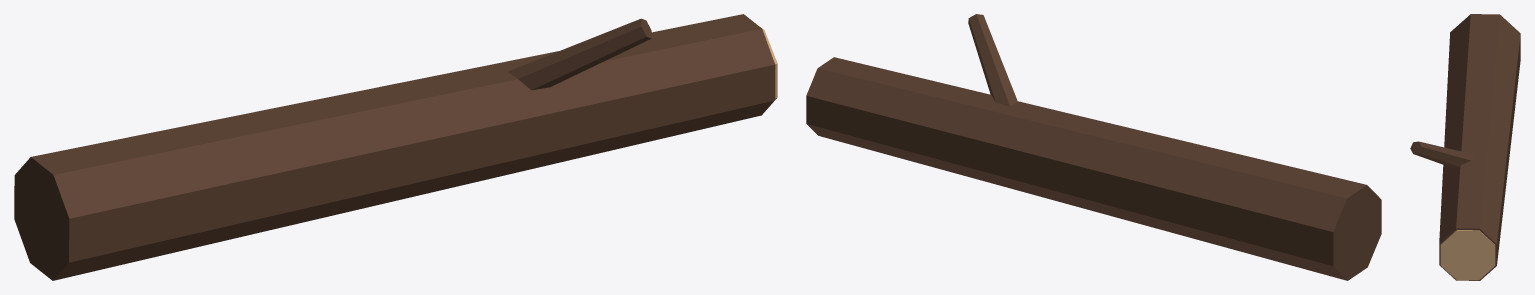
File: fallen_log.glb
The picture shows the model from 3 angles, left to right: view 1: azimuth 30°, elevation 25°; view 2: azimuth 150°, elevation 25°; view 3: azimuth 270°, elevation 25°; orthographic projection. The views are drawn at different scales.
Visible parts, largest first — view 1: fallen_log; view 2: fallen_log; view 3: fallen_log.
Part boxes in pixels (x1=…): fallen_log: x1=14, y1=14, x2=777, y2=280; fallen_log: x1=806, y1=14, x2=1381, y2=280; fallen_log: x1=1410, y1=14, x2=1520, y2=280.
Size of the model in its own units: 2.82 by 0.6179 by 0.6359.
